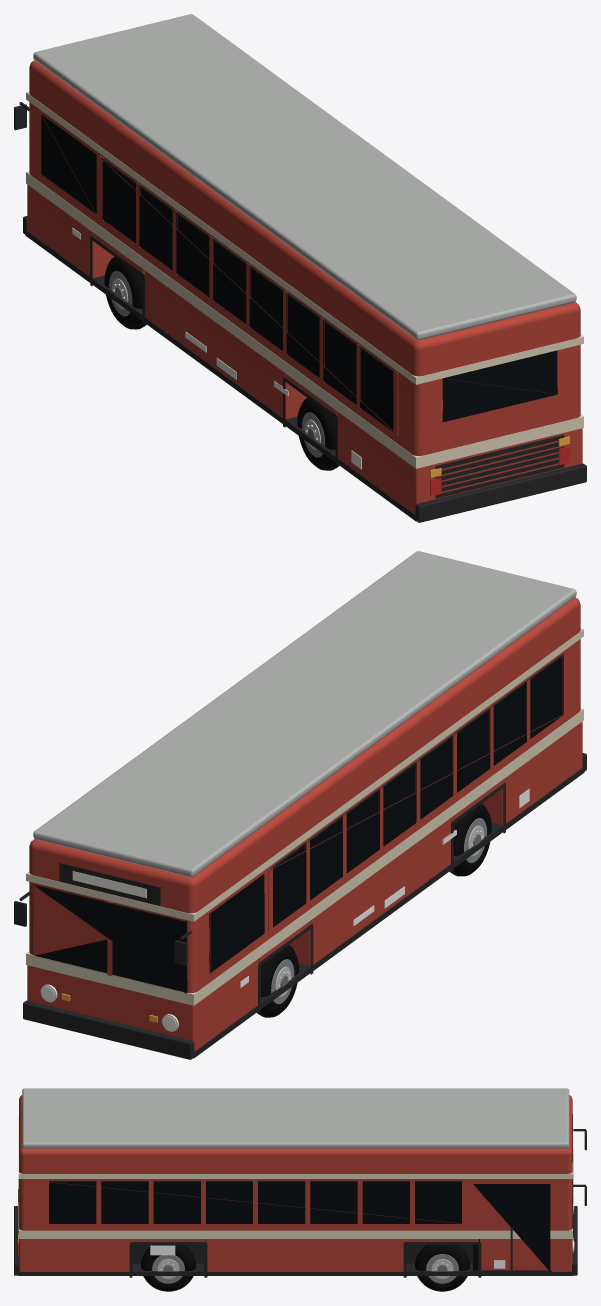
Rendered from vehicle.bus.half_cab.glb.
3 renders of one model, top to bottom at view 1: azimuth 30°, elevation 25°; view 2: azimuth 150°, elevation 25°; view 3: azimuth 270°, elevation 25°, orthographic. The views are drawn at different scales.
Visible parts, largest first — view 1: main__paint_bbb, main__paint_b43, main__glass_dark, main__paint_222, main__paint_edc, main__rubber, main__paint_889; view 2: main__paint_bbb, main__paint_b43, main__glass_dark, main__paint_edc, main__paint_222, main__rubber, main__light_ffe, main__paint_889; view 3: main__paint_b43, main__paint_bbb, main__glass_dark, main__paint_edc, main__paint_222, main__rubber, main__paint_889, main__galv_ccc, main__paint_fff.
Boxes of the visible parts, x1,y1,x2,y2 form: main__paint_bbb: (33, 14, 576, 340); main__paint_b43: (27, 60, 582, 514); main__glass_dark: (41, 114, 557, 431); main__paint_222: (14, 102, 586, 522); main__paint_edc: (26, 91, 583, 468); main__rubber: (104, 257, 339, 470); main__paint_889: (109, 271, 325, 457); main__paint_bbb: (33, 551, 576, 877); main__paint_b43: (27, 597, 582, 1051); main__glass_dark: (32, 655, 563, 993); main__paint_edc: (26, 628, 583, 1005); main__paint_222: (14, 653, 586, 1059); main__rubber: (257, 804, 491, 1017); main__light_ffe: (42, 871, 176, 1030); main__paint_889: (271, 818, 487, 1004); main__paint_b43: (19, 1095, 573, 1271); main__paint_bbb: (22, 1088, 569, 1148); main__glass_dark: (18, 1179, 572, 1271); main__paint_edc: (18, 1116, 572, 1238); main__paint_222: (14, 1114, 586, 1277); main__rubber: (140, 1244, 469, 1291); main__paint_889: (152, 1254, 458, 1283); main__galv_ccc: (157, 1259, 453, 1279); main__paint_fff: (150, 1245, 505, 1268).
Bounding box in the file's own units: 2.56 × 3 × 10.35.
